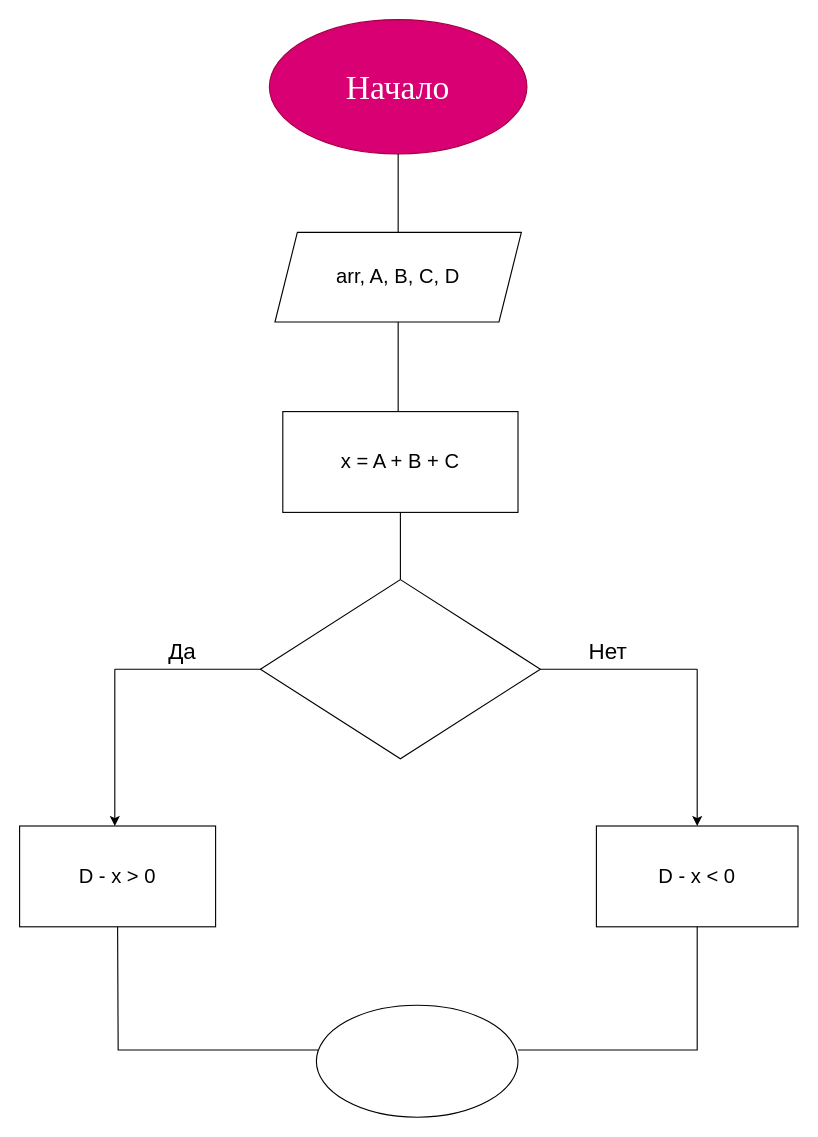
Some shapes in this 818 by 1137 pixel diagram are drawn without their labels. The centre of each missing label's shape, as x and y in pixels:
"D >= x ?" belongs at point (399, 668).
"Конец" belongs at point (416, 1060).
